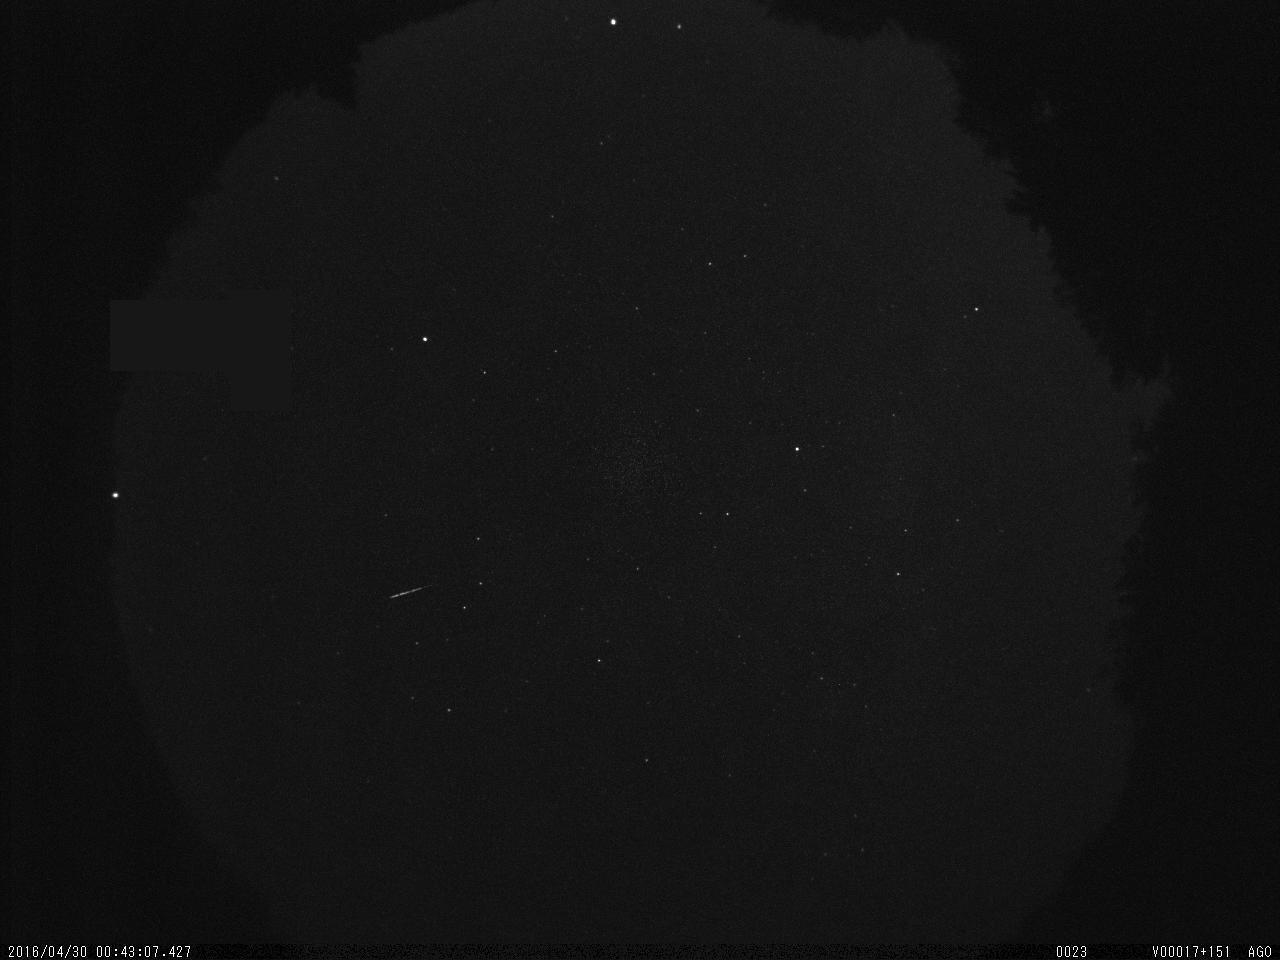Meteor: (382, 578, 434, 607)
